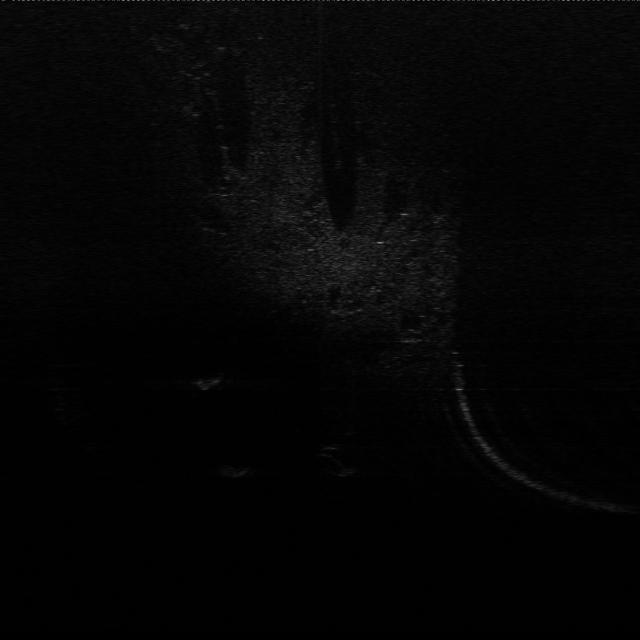cube: (220, 458, 254, 479)
square cage: (184, 370, 230, 392)
tyre: (310, 444, 362, 481)
